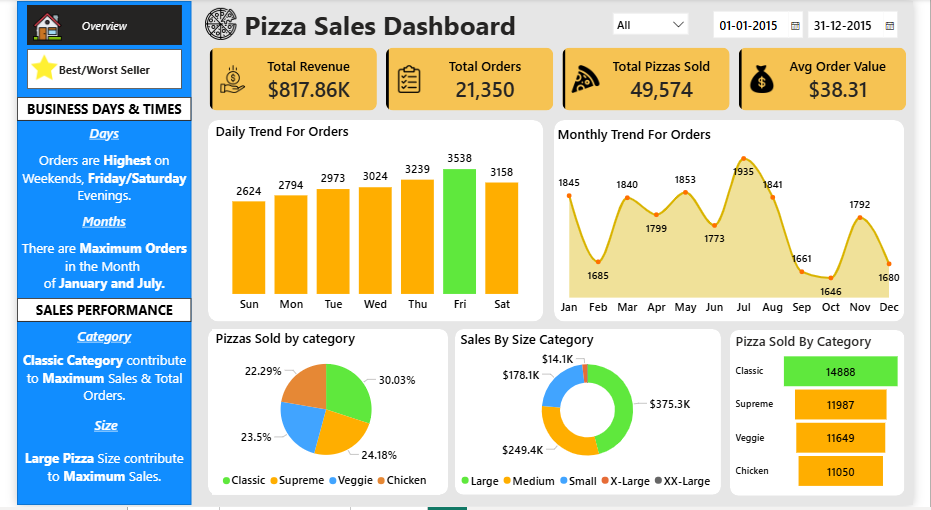

Layout of this report page (visuals, bound fields, positions):
{"tool":"powerbi","page":{"name":"Overview","canvas":[1280,720],"ordinal":0},"visuals":[{"type":"shape","box":[0,0,249.1,720],"z":0},{"type":"textbox","box":[313.9,2.9,409,60.5],"z":1000},{"type":"image","box":[268.2,5.7,45.4,53.9],"z":2000},{"type":"cardVisual","fields":{"Data":["order_details.Total Revenue","order_details.Total Orders","order_details.Total Pizzas Sold","order_details.Average Order Value"]},"box":[266.8,58.1,1012,106.3],"z":3000},{"type":"shape","box":[767.1,170.1,500.3,287.7],"z":4000},{"type":"lineChart","title":"Monthly Trend For Orders","fields":{"Category":["Dim_Date.Month"],"Y":["order_details.Total Orders"]},"box":[767.1,177.2,500.3,280.6],"z":5000},{"type":"shape","box":[272.5,169.4,479.1,287.7],"z":6000},{"type":"columnChart","title":"Daily Trend For Orders","fields":{"Category":["Dim_Date.Day"],"Y":["order_details.Total Orders"]},"box":[278.1,172.3,467.7,280.6],"z":7000},{"type":"shape","box":[272.5,469.1,343,236.7],"z":8000},{"type":"pieChart","title":"Pizzas Sold by category","fields":{"Category":["pizza_types.category"],"Y":["order_details.Total Pizzas Sold"]},"box":[278.1,469.1,326,236.7],"z":9000},{"type":"shape","box":[625.4,469.1,379.8,236.7],"z":10000},{"type":"donutChart","title":"Sales By Size Category","fields":{"Y":["order_details.Total Revenue"],"Category":["pizzas.Size_Category"]},"box":[628.2,470.6,372.8,235.3],"z":11000},{"type":"shape","box":[1018,470.6,249.4,236.7],"z":12000},{"type":"funnel","title":"Pizza Sold By Category","fields":{"Category":["pizza_types.category"],"Y":["order_details.Total Pizzas Sold"]},"box":[1020.8,473.4,246.6,229.6],"z":13000},{"type":"slicer","fields":{"Values":["pizza_types.category"]},"box":[843.7,9.9,121.9,52.4],"z":14000},{"type":"slicer","fields":{"Values":["Dim_Date.Date"]},"box":[981.1,7.1,286.3,52.4],"z":15000},{"type":"pageNavigator","box":[14.2,5.7,221.1,120.5],"z":16000},{"type":"image","box":[22.7,11.3,41.1,49.6],"z":17000},{"type":"image","box":[18.4,69.4,41.1,49.6],"z":18000},{"type":"textbox","box":[0,137.5,249.4,34],"z":19000},{"type":"textbox","box":[56.7,172.6,134.6,38.3],"z":20000},{"type":"textbox","box":[0,212,249.4,85],"z":21000},{"type":"textbox","box":[56.7,298.2,134.6,38.3],"z":22000},{"type":"textbox","box":[0,337.6,249.4,85],"z":23000},{"type":"textbox","box":[0,423.8,249.4,34],"z":24000},{"type":"textbox","box":[56.7,462.4,134.6,38.3],"z":25000},{"type":"textbox","box":[0,497.1,250,84.3],"z":26000},{"type":"textbox","box":[60,590,134.3,38.6],"z":27000},{"type":"textbox","box":[0,637.8,249.4,60.9],"z":28000}]}

Visuals, with their boxes in screenshot pixels (x1, y1, x2, y2), scaled from the page's 1280x720 canvas onto the 931x510 screenshot:
shape: [x1=0, y1=0, x2=181, y2=509]
textbox: [x1=228, y1=2, x2=526, y2=45]
image: [x1=195, y1=4, x2=228, y2=42]
cardVisual - order_details.Total Revenue x order_details.Total Orders: [x1=194, y1=41, x2=930, y2=116]
shape: [x1=558, y1=120, x2=922, y2=324]
"Monthly Trend For Orders" lineChart: [x1=558, y1=126, x2=922, y2=324]
shape: [x1=198, y1=120, x2=547, y2=324]
"Daily Trend For Orders" columnChart: [x1=202, y1=122, x2=542, y2=321]
shape: [x1=198, y1=332, x2=448, y2=500]
"Pizzas Sold by category" pieChart: [x1=202, y1=332, x2=439, y2=500]
shape: [x1=455, y1=332, x2=731, y2=500]
"Sales By Size Category" donutChart: [x1=457, y1=333, x2=728, y2=500]
shape: [x1=740, y1=333, x2=922, y2=501]
"Pizza Sold By Category" funnel: [x1=742, y1=335, x2=922, y2=498]
slicer - pizza_types.category: [x1=614, y1=7, x2=702, y2=44]
slicer - Dim_Date.Date: [x1=714, y1=5, x2=922, y2=42]
pageNavigator: [x1=10, y1=4, x2=171, y2=89]
image: [x1=17, y1=8, x2=46, y2=43]
image: [x1=13, y1=49, x2=43, y2=84]
textbox: [x1=0, y1=97, x2=181, y2=121]
textbox: [x1=41, y1=122, x2=139, y2=149]
textbox: [x1=0, y1=150, x2=181, y2=210]
textbox: [x1=41, y1=211, x2=139, y2=238]
textbox: [x1=0, y1=239, x2=181, y2=299]
textbox: [x1=0, y1=300, x2=181, y2=324]
textbox: [x1=41, y1=328, x2=139, y2=355]
textbox: [x1=0, y1=352, x2=182, y2=412]
textbox: [x1=44, y1=418, x2=141, y2=445]
textbox: [x1=0, y1=452, x2=181, y2=495]
